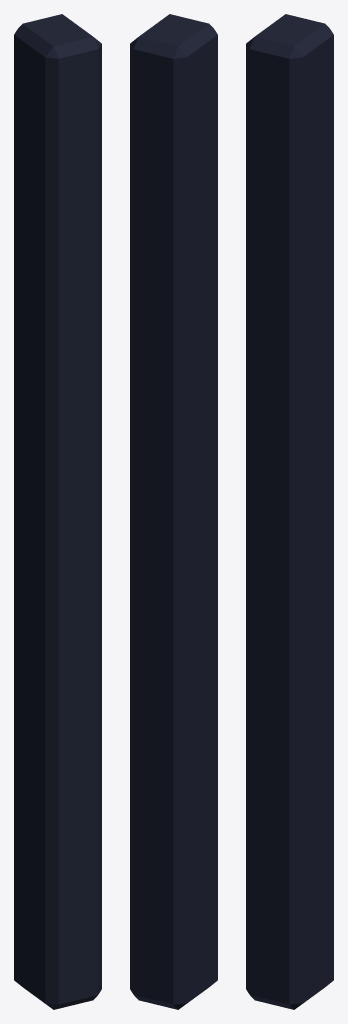
Rendered from sm_env_depot_window_mullion.glb.
3 renders of one model, left to right at view 1: azimuth 30°, elevation 25°; view 2: azimuth 150°, elevation 25°; view 3: azimuth 330°, elevation 25°, orthographic.
Parts seen in each view (by area): view 1: Mullion; view 2: Mullion; view 3: Mullion.
Part boxes in pixels (x1,y1,x2,y2): Mullion: (14, 14, 101, 1009); Mullion: (130, 14, 217, 1009); Mullion: (246, 14, 333, 1009).
Size of the model in its own units: 0.08 by 1.3 by 0.1.
